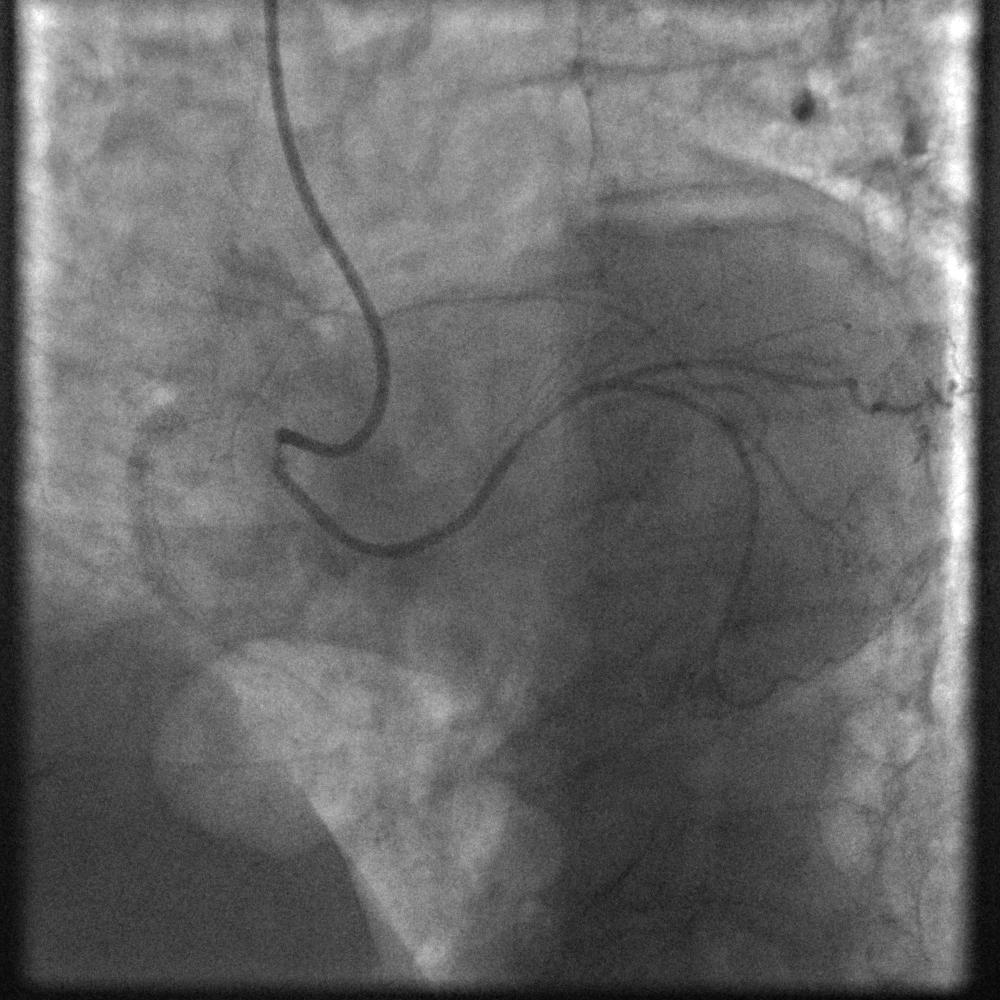Stenosis: (515, 389, 565, 450)
